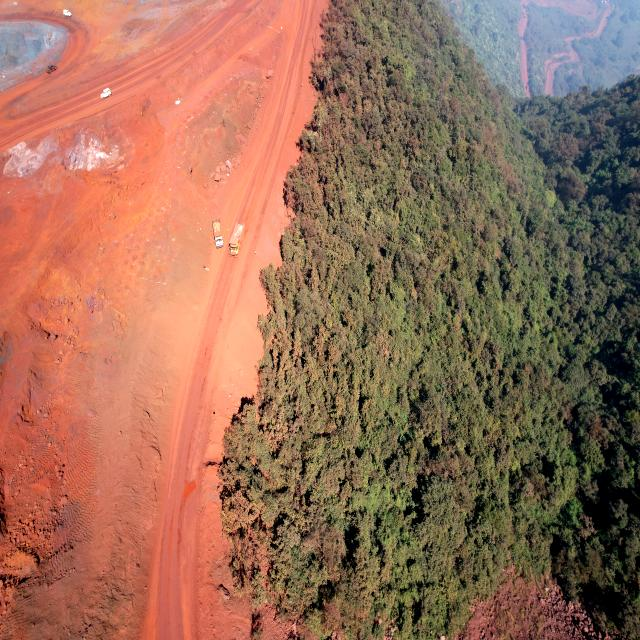Dumper truck: (231, 224, 242, 255), (231, 230, 242, 254), (214, 220, 222, 247)
car: (101, 88, 112, 97), (62, 8, 72, 17), (47, 63, 56, 72)
